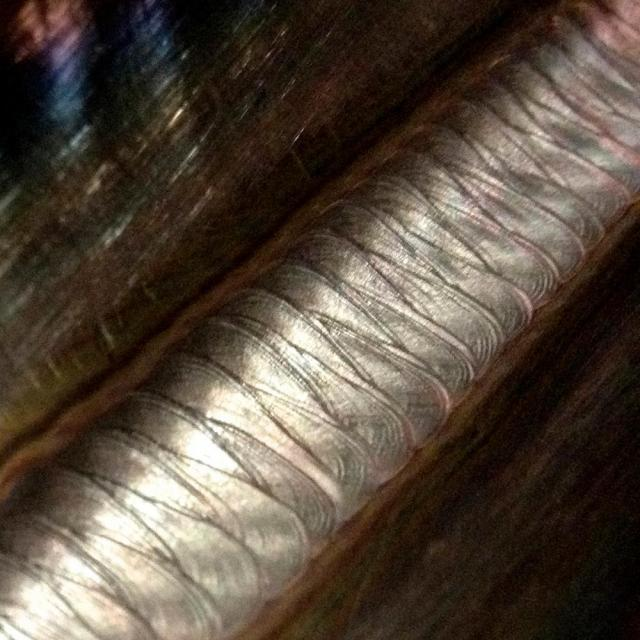Good Welding: (11, 357, 346, 639), (320, 166, 525, 462)
